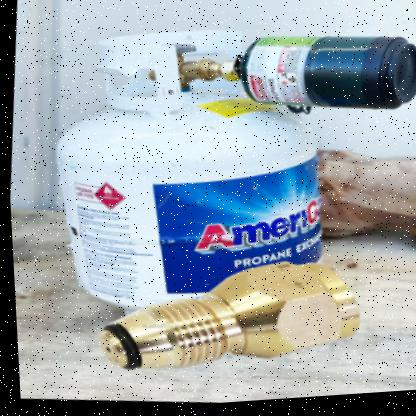gas-tank: (15, 8, 375, 360)
